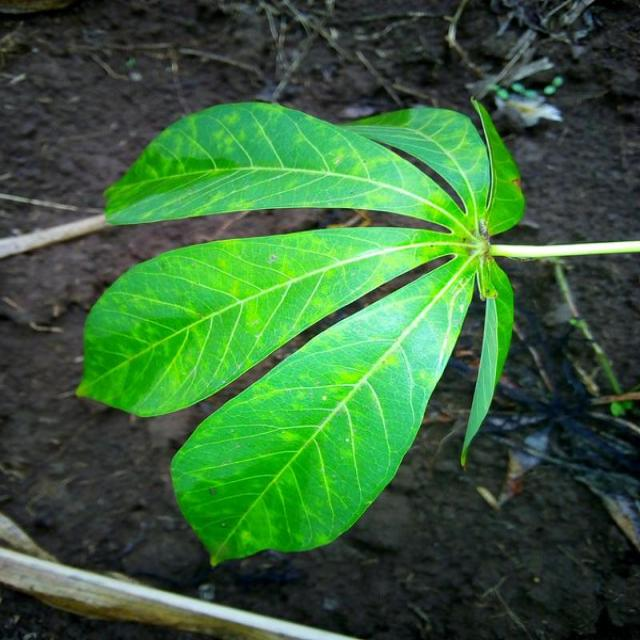cassava leaf: (77, 96, 525, 566), (74, 223, 466, 419)
